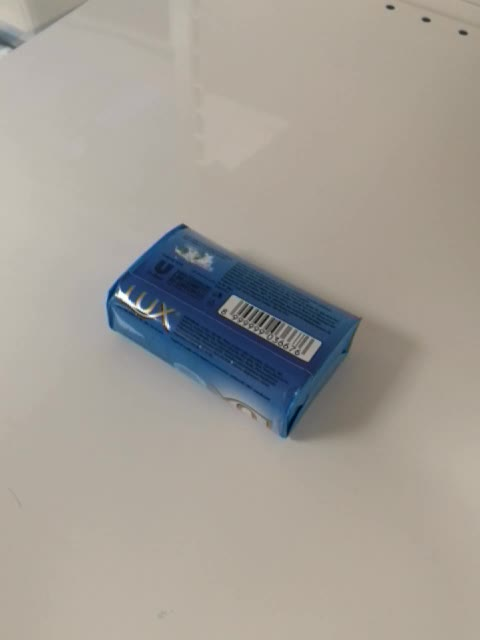soap: (104, 220, 364, 441)
